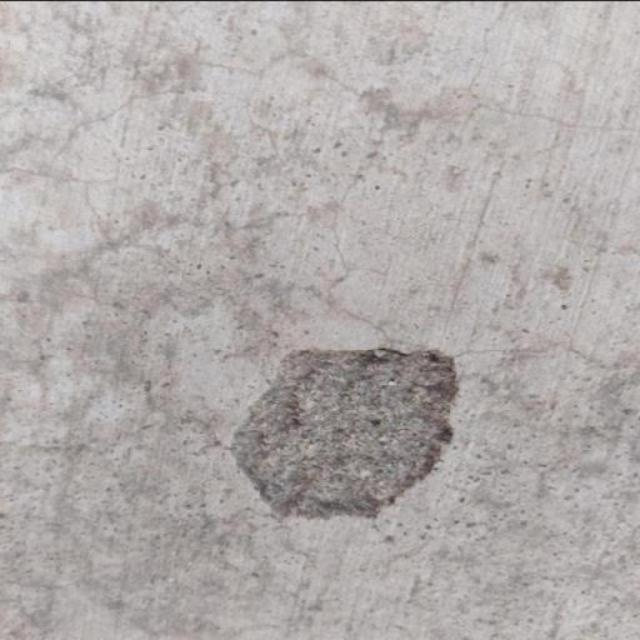D10: (226, 346, 461, 521)
